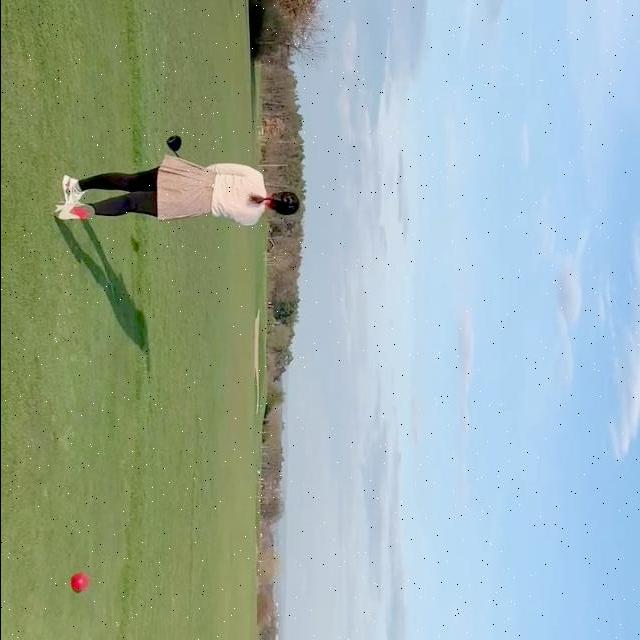golf club-handle: (166, 135, 181, 158)
golf club-head: (165, 135, 180, 152)
